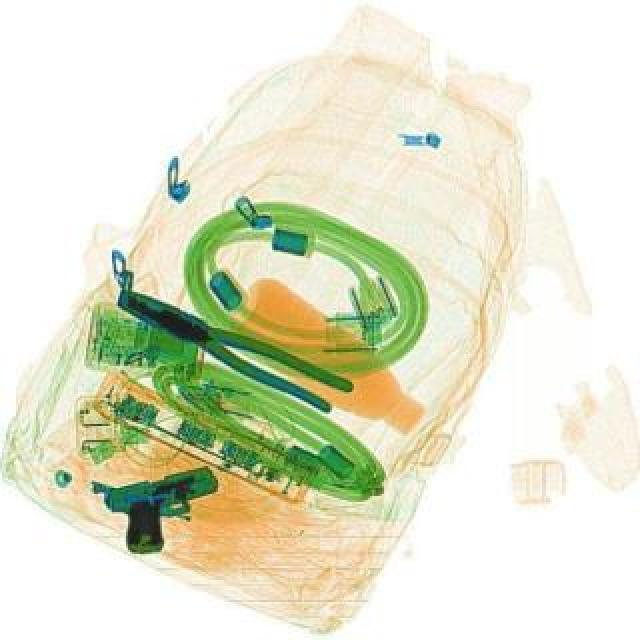gun: (100, 460, 232, 558)
wrench: (106, 274, 354, 414)
